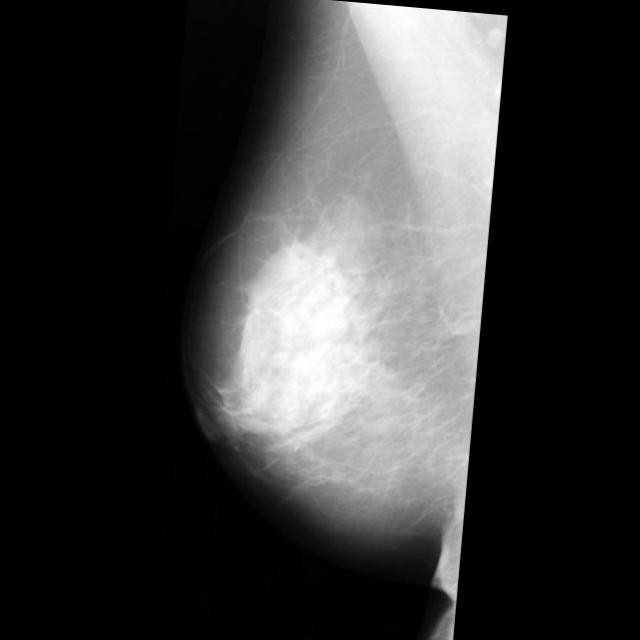CALC: (230, 78, 232, 82)
